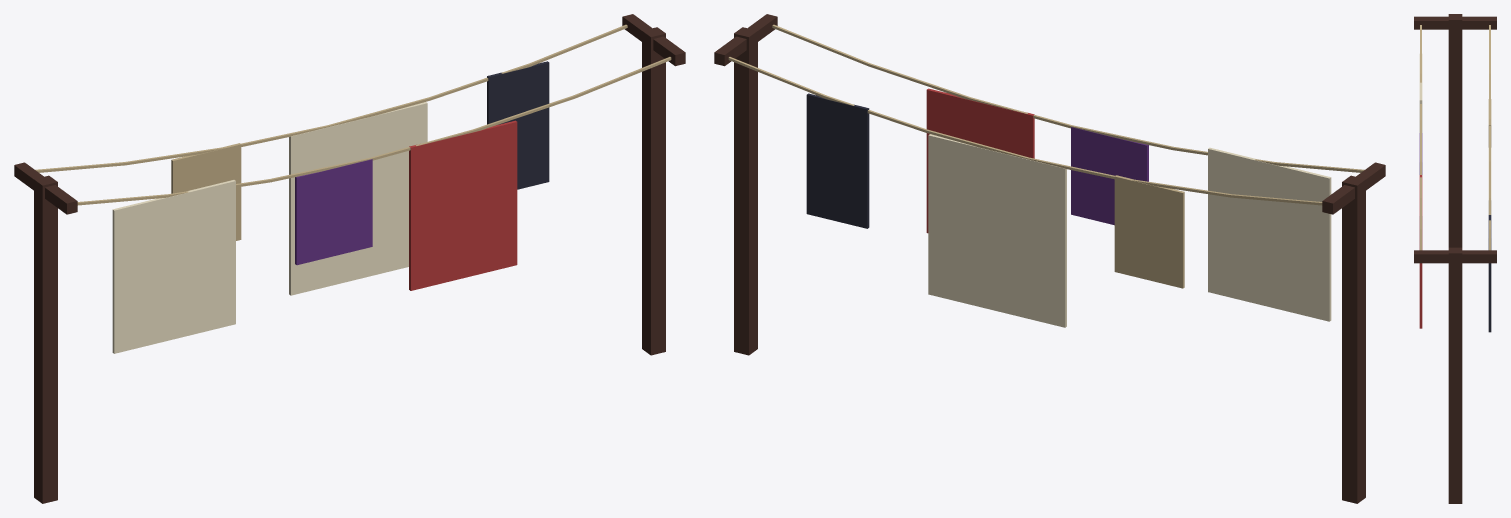
File: laundry_line.glb
The picture shows the model from 3 angles, left to right: view 1: azimuth 30°, elevation 25°; view 2: azimuth 150°, elevation 25°; view 3: azimuth 270°, elevation 25°; orthographic projection. The views are drawn at different scales.
Visible parts, largest first — view 1: post; view 2: post; view 3: post.
Part boxes in pixels (x1=…): post: x1=14, y1=14, x2=685, y2=503; post: x1=714, y1=14, x2=1385, y2=503; post: x1=1414, y1=14, x2=1496, y2=503.
Bounding box in the file's own units: 4.1 × 2 × 0.6.
